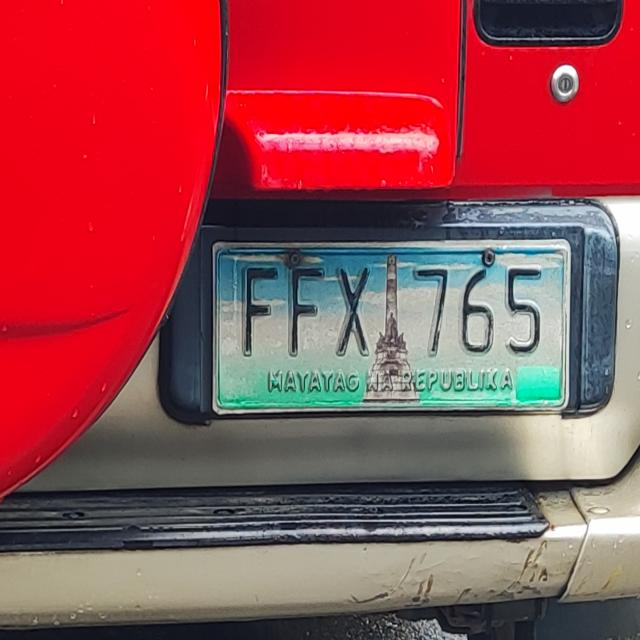plate: (205, 232, 577, 424)
